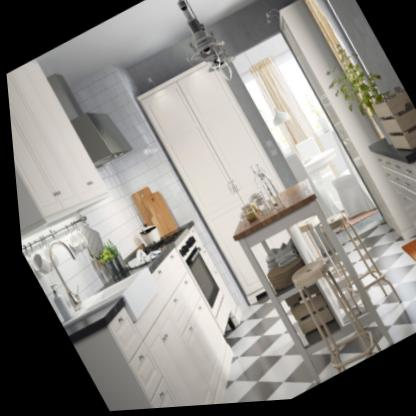Table: (214, 171, 395, 393), (274, 250, 378, 381)
